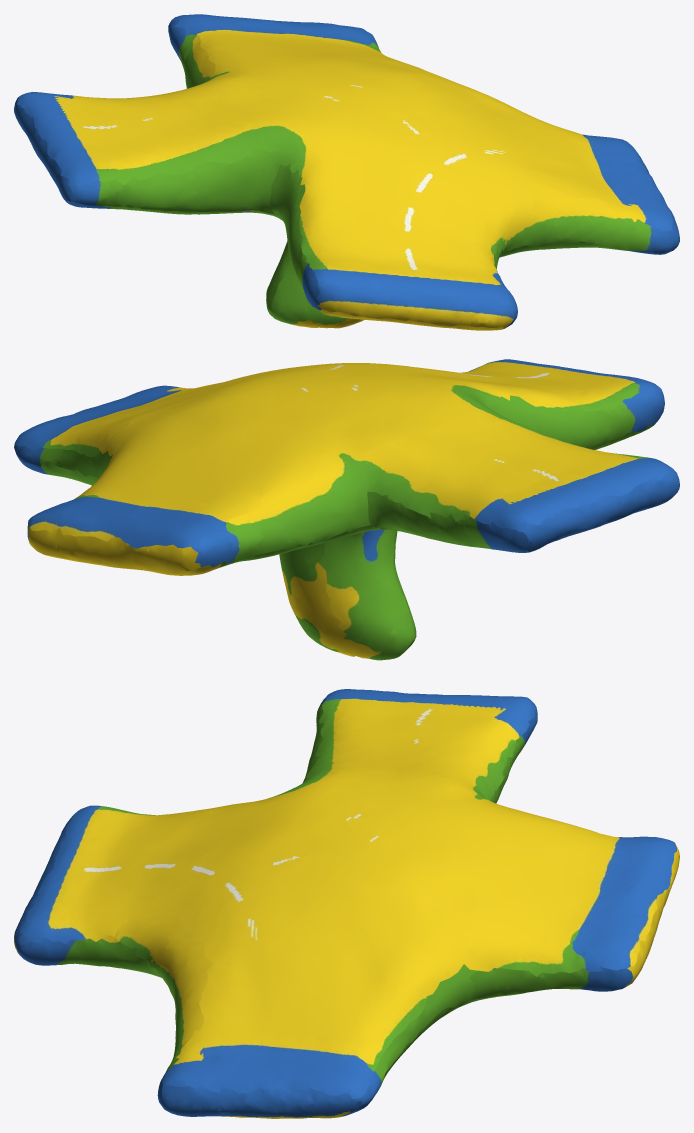
Rendered from doublecurve.glb.
3 views of the same model, one above another, from view 1: azimuth 30°, elevation 25°; view 2: azimuth 150°, elevation 25°; view 3: azimuth 270°, elevation 25° (orthographic). The views are drawn at different scales.
Visible parts, largest first — view 1: geometry_0; view 2: geometry_0; view 3: geometry_0.
Part boxes in pixels (<box>): geometry_0: <box>14,14,679,330</box>; geometry_0: <box>14,359,679,660</box>; geometry_0: <box>14,689,679,1118</box>.
Size of the model in its own units: 1.03 by 0.3861 by 0.9712.
1 material, 1 textured.
